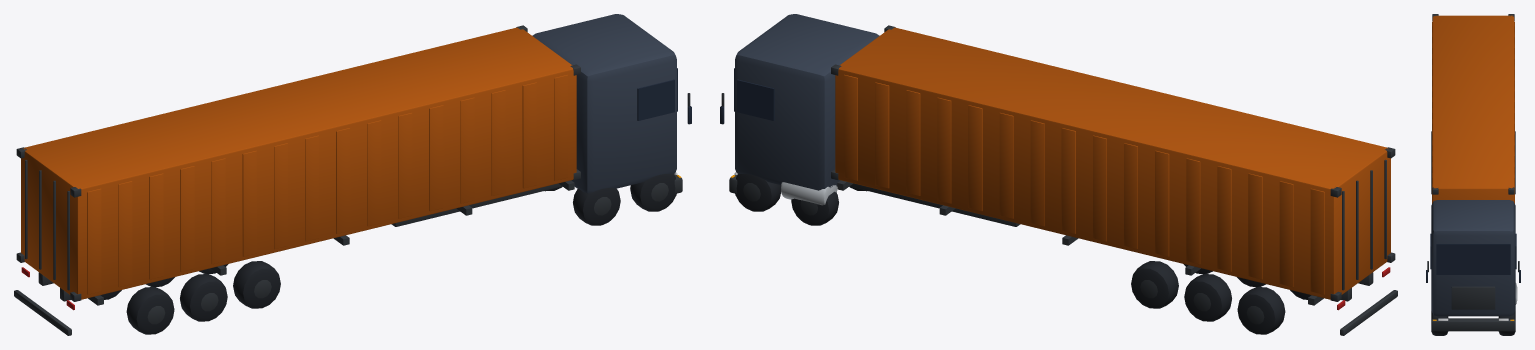
Rendered from container.glb.
3 views of the same model, side by side, from view 1: azimuth 30°, elevation 25°; view 2: azimuth 150°, elevation 25°; view 3: azimuth 270°, elevation 25° (orthographic). The views are drawn at different scales.
Visible parts, largest first — view 1: body; view 2: body; view 3: body.
Boxes of the visible parts, left/top/right/bottom form: body: left=14, top=14, right=691, bottom=335; body: left=720, top=14, right=1397, bottom=335; body: left=1426, top=14, right=1520, bottom=335.
Bounding box in the file's own units: 15.09 × 3.85 × 2.82.
